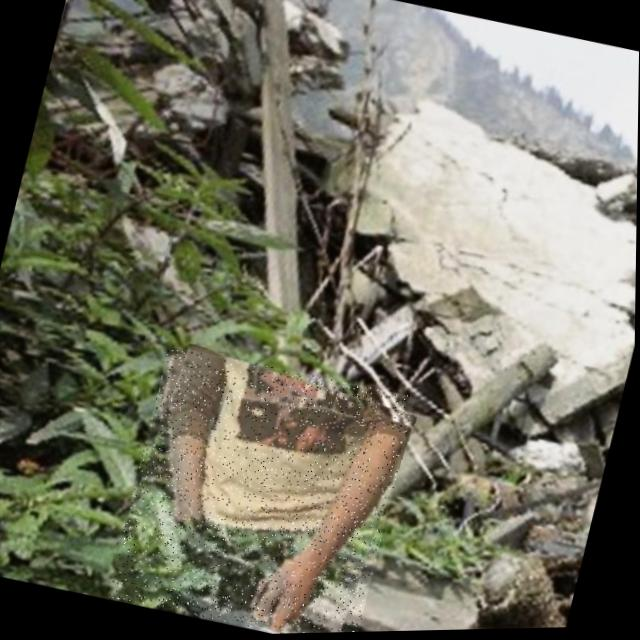Person in Rubble: (109, 341, 417, 638)
